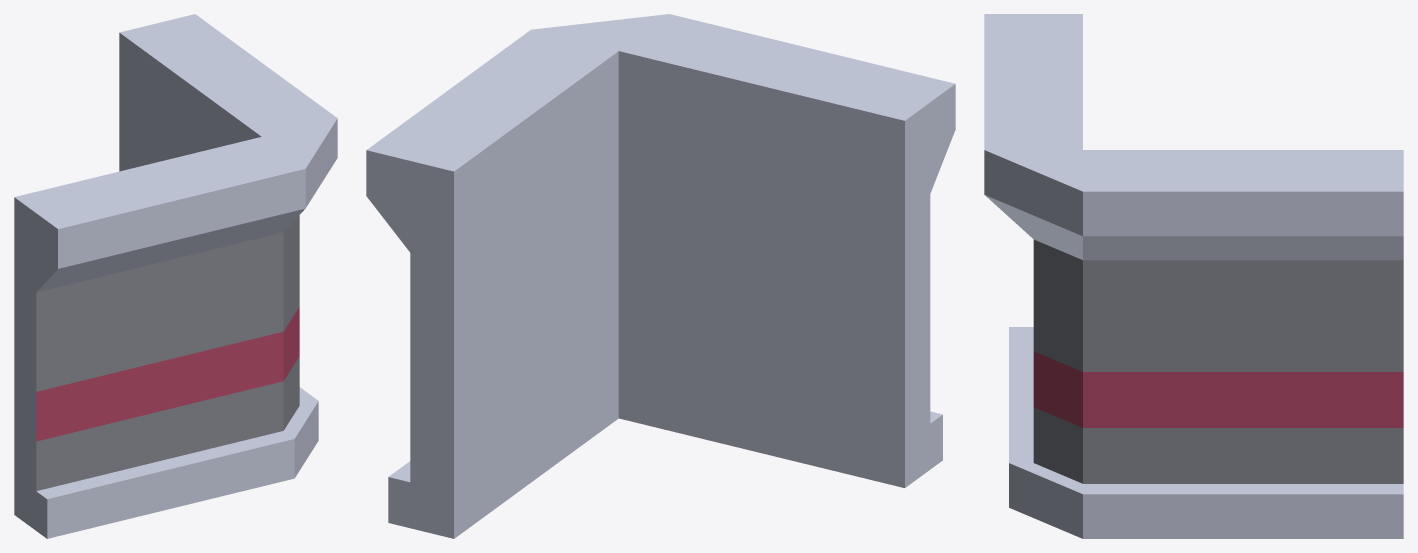
Rendered from spaceInterior_043.obj.
3 renders of one model, left to right at view 1: azimuth 30°, elevation 25°; view 2: azimuth 150°, elevation 25°; view 3: azimuth 270°, elevation 25°, orthographic. The views are drawn at different scales.
Visible parts, largest first — view 1: Mesh1 Group1 Model; view 2: Mesh1 Group1 Model; view 3: Mesh1 Group1 Model.
Part boxes in pixels (box(x1,y1,x2,y2)): Mesh1 Group1 Model: box(14, 14, 337, 538); Mesh1 Group1 Model: box(366, 14, 955, 538); Mesh1 Group1 Model: box(984, 14, 1403, 538).
Bounding box in the file's own units: 1.07 × 1 × 1.06.
